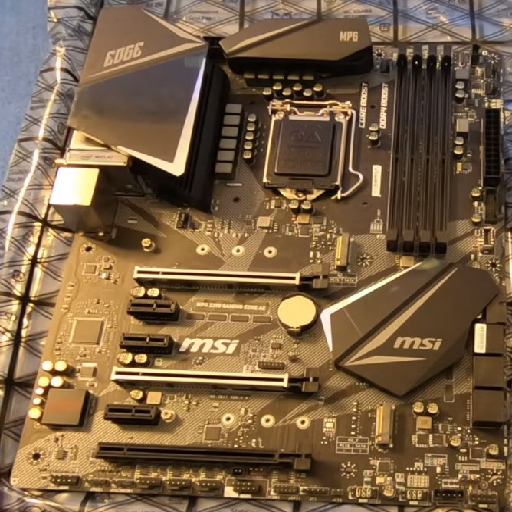CPU: (263, 99, 357, 202)
GPU: (94, 440, 312, 473), (133, 264, 330, 295), (109, 367, 321, 395)
MOTHERBOARD: (13, 7, 512, 509)
RAM: (384, 49, 457, 254)
SSD: (373, 402, 396, 446), (333, 233, 352, 269)
